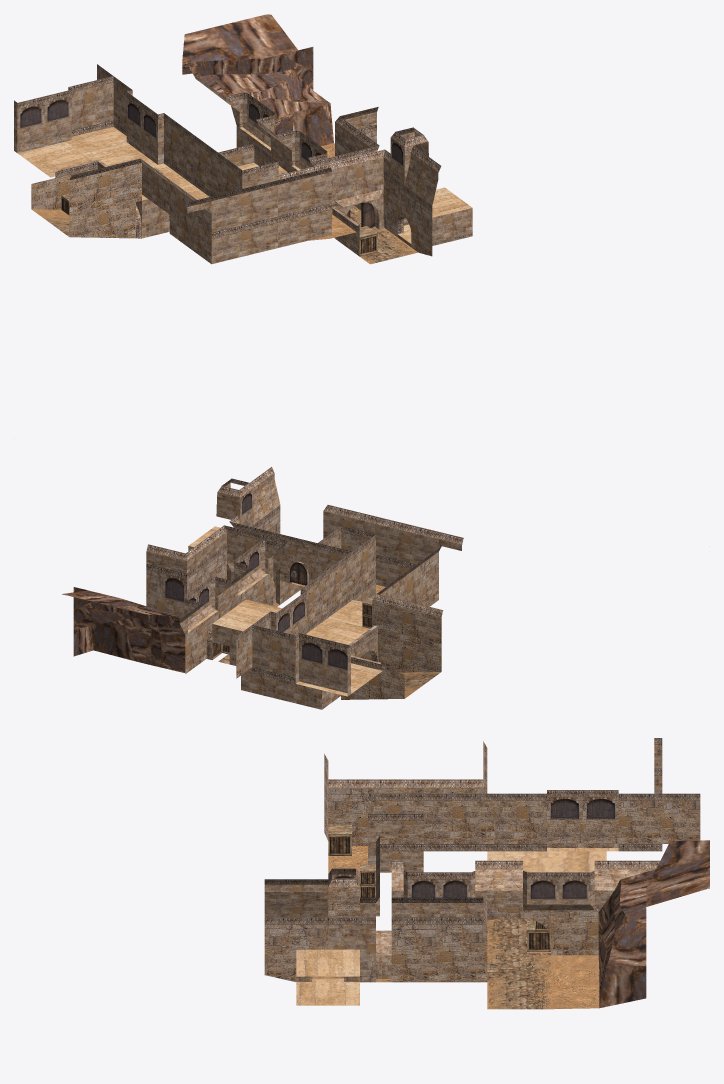
File: 256DustParts3.fbx
3 views of the same model, one above another, from view 1: azimuth 30°, elevation 25°; view 2: azimuth 150°, elevation 25°; view 3: azimuth 270°, elevation 25° (orthographic). The views are drawn at different scales.
Visible parts, largest first — view 1: Trigger3; view 2: Trigger3; view 3: Trigger3.
Boxes of the visible parts, bbox=[...] form: Trigger3: bbox=[14, 14, 472, 264]; Trigger3: bbox=[62, 466, 463, 709]; Trigger3: bbox=[264, 738, 709, 1009].
Size of the model in its own units: 82.37 by 12.91 by 70.61.
